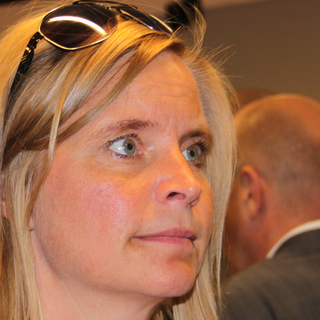eye: (101, 128, 149, 161), (178, 138, 209, 168)
